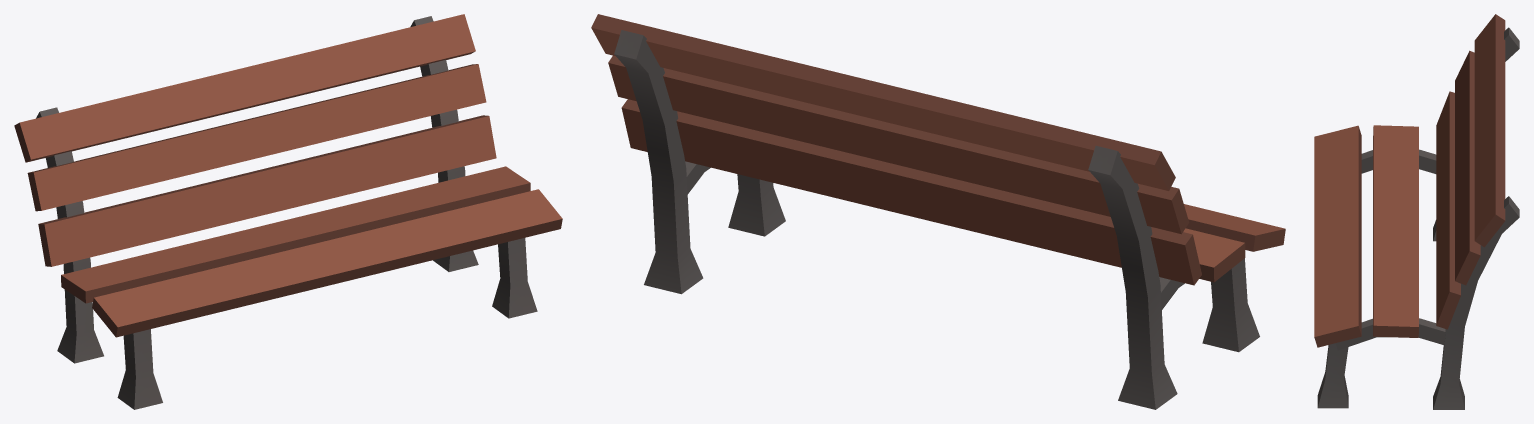
File: bench_001.glb
3 renders of one model, left to right at view 1: azimuth 30°, elevation 25°; view 2: azimuth 150°, elevation 25°; view 3: azimuth 270°, elevation 25°, orthographic. The views are drawn at different scales.
Parts seen in each view (by area): view 1: bench_001; view 2: bench_001; view 3: bench_001.
Part boxes in pixels (x1,y1,x2,y2): bench_001: [14, 14, 562, 409]; bench_001: [591, 14, 1285, 409]; bench_001: [1314, 14, 1519, 409].
Size of the model in its own units: 2.27 by 1.08 by 0.9817.
1 material, 1 textured.
